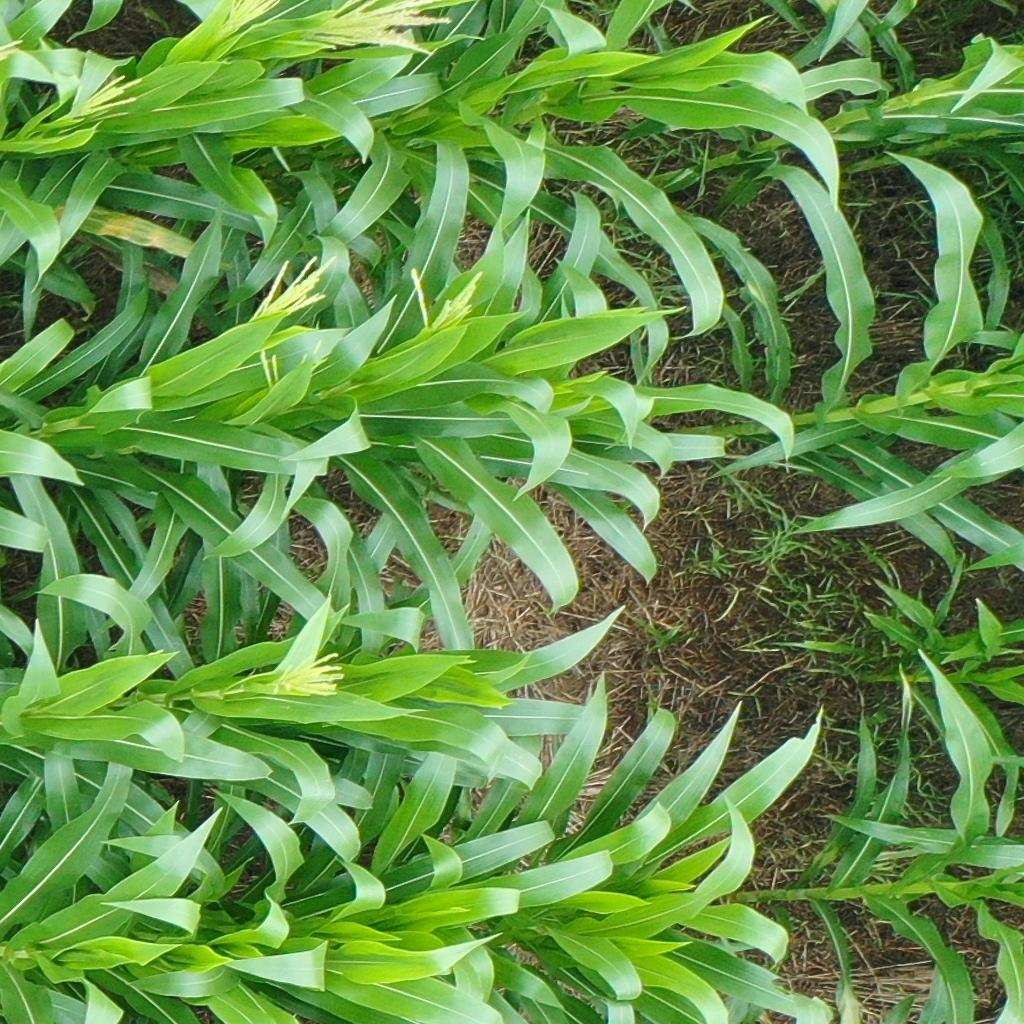Tassel: (292, 1, 454, 57), (246, 252, 338, 321), (406, 265, 483, 333), (268, 651, 348, 700), (256, 338, 328, 389), (75, 75, 142, 124), (222, 1, 282, 27), (1, 36, 26, 64)
